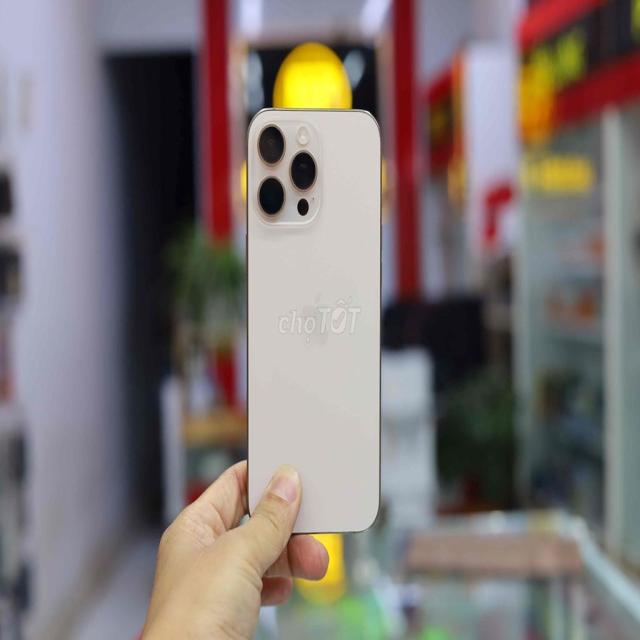gen_16: (236, 91, 394, 546)
